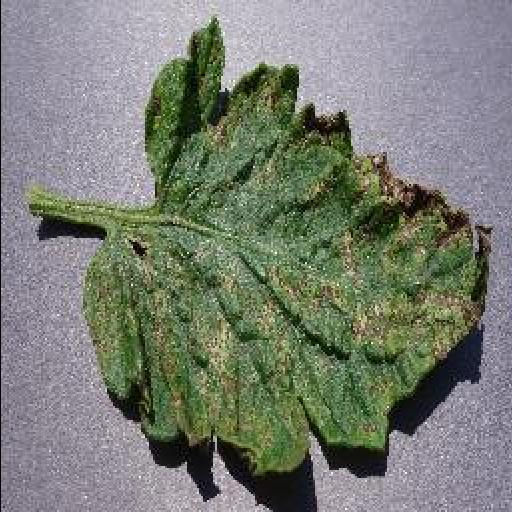disease_tomato: (82, 15, 494, 475)
